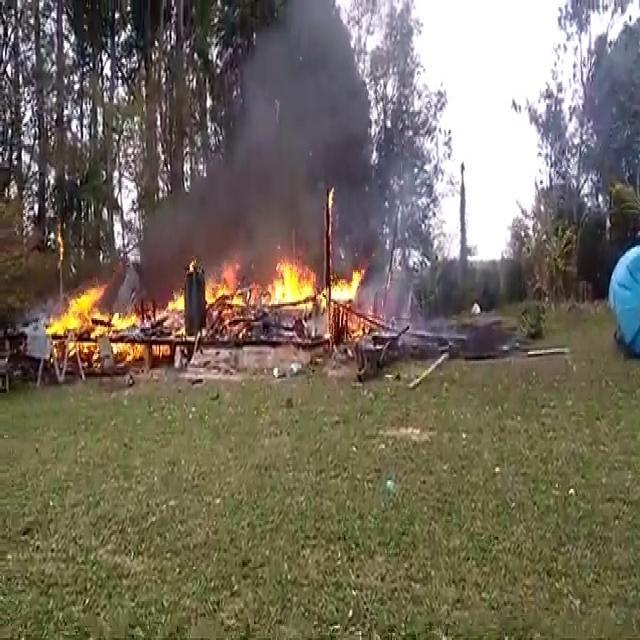Fire: (264, 250, 374, 304), (56, 280, 148, 344), (174, 262, 252, 314)
Smoke: (178, 0, 398, 258)
